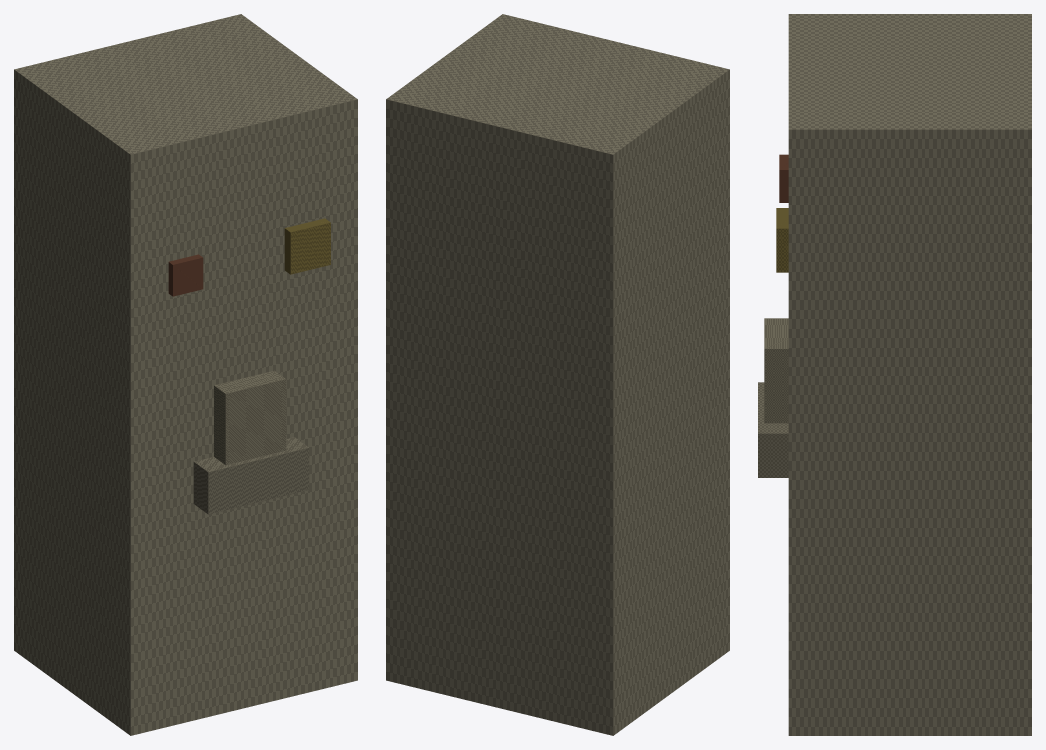
The model's file is prop_coffee.glb.
3 renders of one model, left to right at view 1: azimuth 30°, elevation 25°; view 2: azimuth 150°, elevation 25°; view 3: azimuth 270°, elevation 25°, orthographic. The views are drawn at different scales.
Parts seen in each view (by area): view 1: prop_coffee; view 2: prop_coffee; view 3: prop_coffee.
Boxes of the visible parts, <box> form: prop_coffee: <box>14,14,357,735</box>; prop_coffee: <box>386,14,729,735</box>; prop_coffee: <box>758,14,1031,735</box>.
Size of the model in its own units: 0.45 by 1.1 by 0.45.
1 material, 1 textured.
